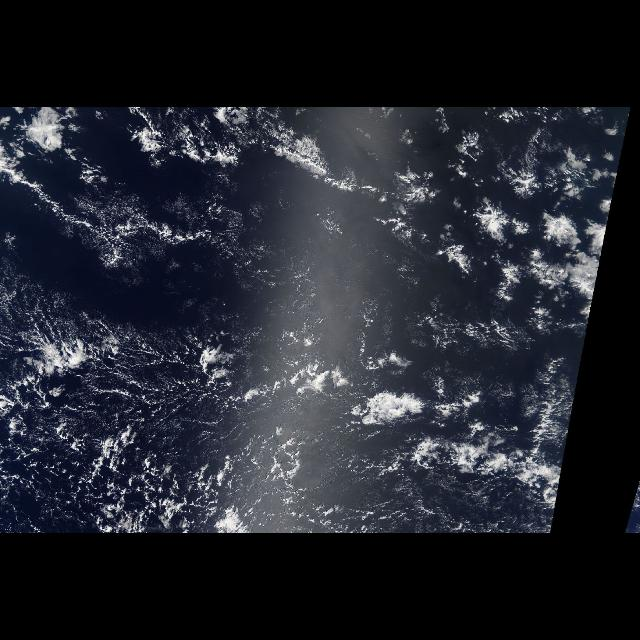Flower: (299, 124, 626, 338)
Gravel: (5, 275, 322, 533)
